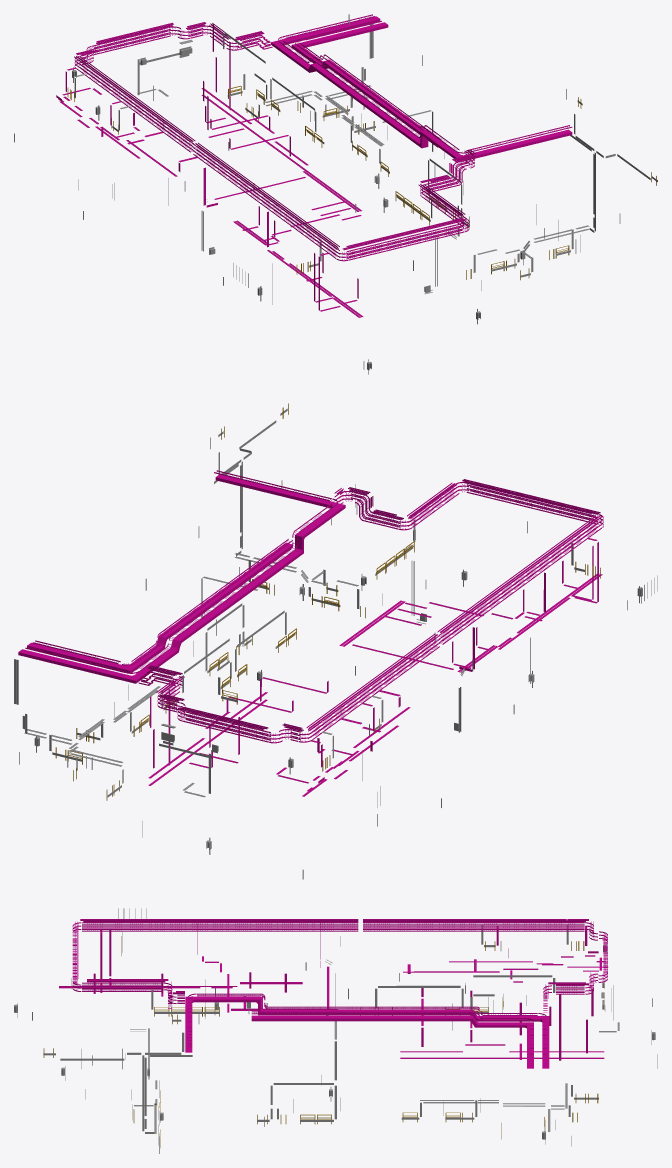
3 renders of one model, top to bottom at view 1: azimuth 30°, elevation 25°; view 2: azimuth 150°, elevation 25°; view 3: azimuth 270°, elevation 25°, orthographic. The views are drawn at different scales.
Bounding box in the file's own units: 58.34 × 22.08 × 90.22.
